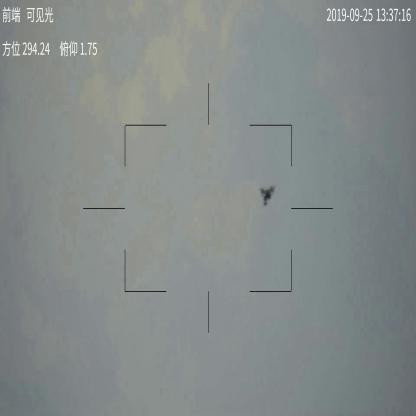uav: (258, 182, 276, 208)
